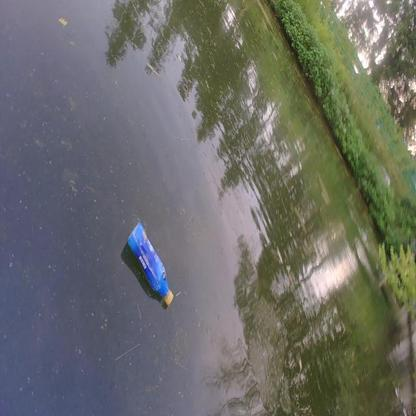plastic bottle: (125, 221, 175, 307)
